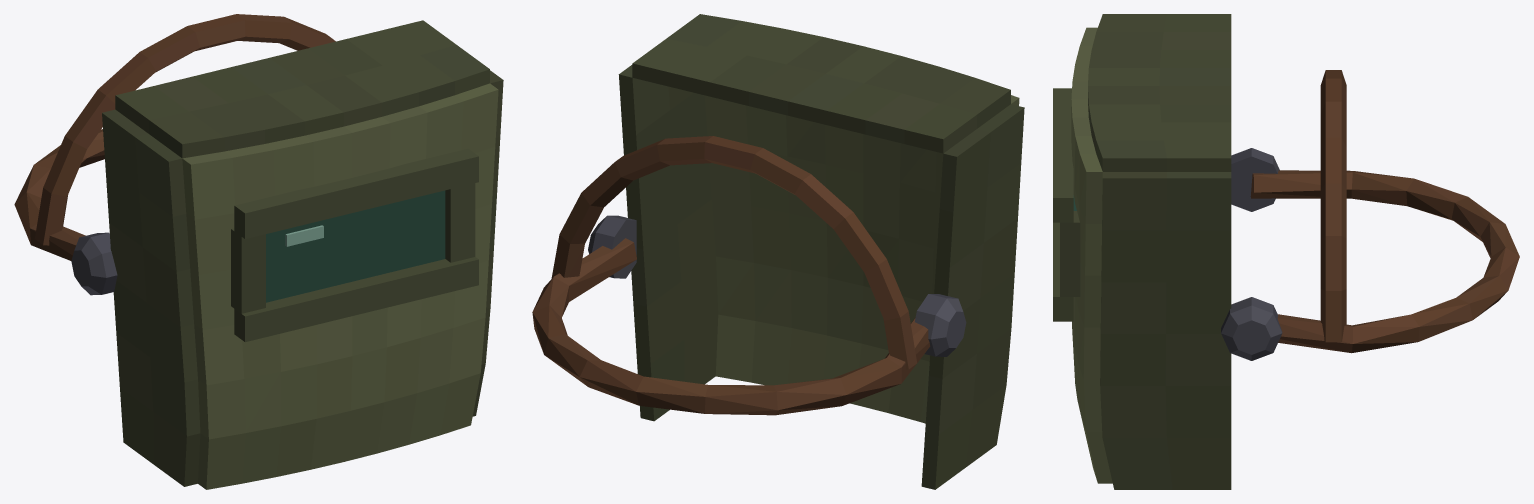
The model's file is wear_welding_mask.glb.
The picture shows the model from 3 angles, left to right: view 1: azimuth 30°, elevation 25°; view 2: azimuth 150°, elevation 25°; view 3: azimuth 270°, elevation 25°; orthographic projection. The views are drawn at different scales.
Parts seen in each view (by area): view 1: wear_welding_mask; view 2: wear_welding_mask; view 3: wear_welding_mask.
Part boxes in pixels (left/top/right/bottom): wear_welding_mask: left=14, top=14, right=503, bottom=489; wear_welding_mask: left=532, top=14, right=1024, bottom=489; wear_welding_mask: left=1053, top=14, right=1519, bottom=489.
Bounding box in the file's own units: 0.5778 × 0.542 × 0.6838.
